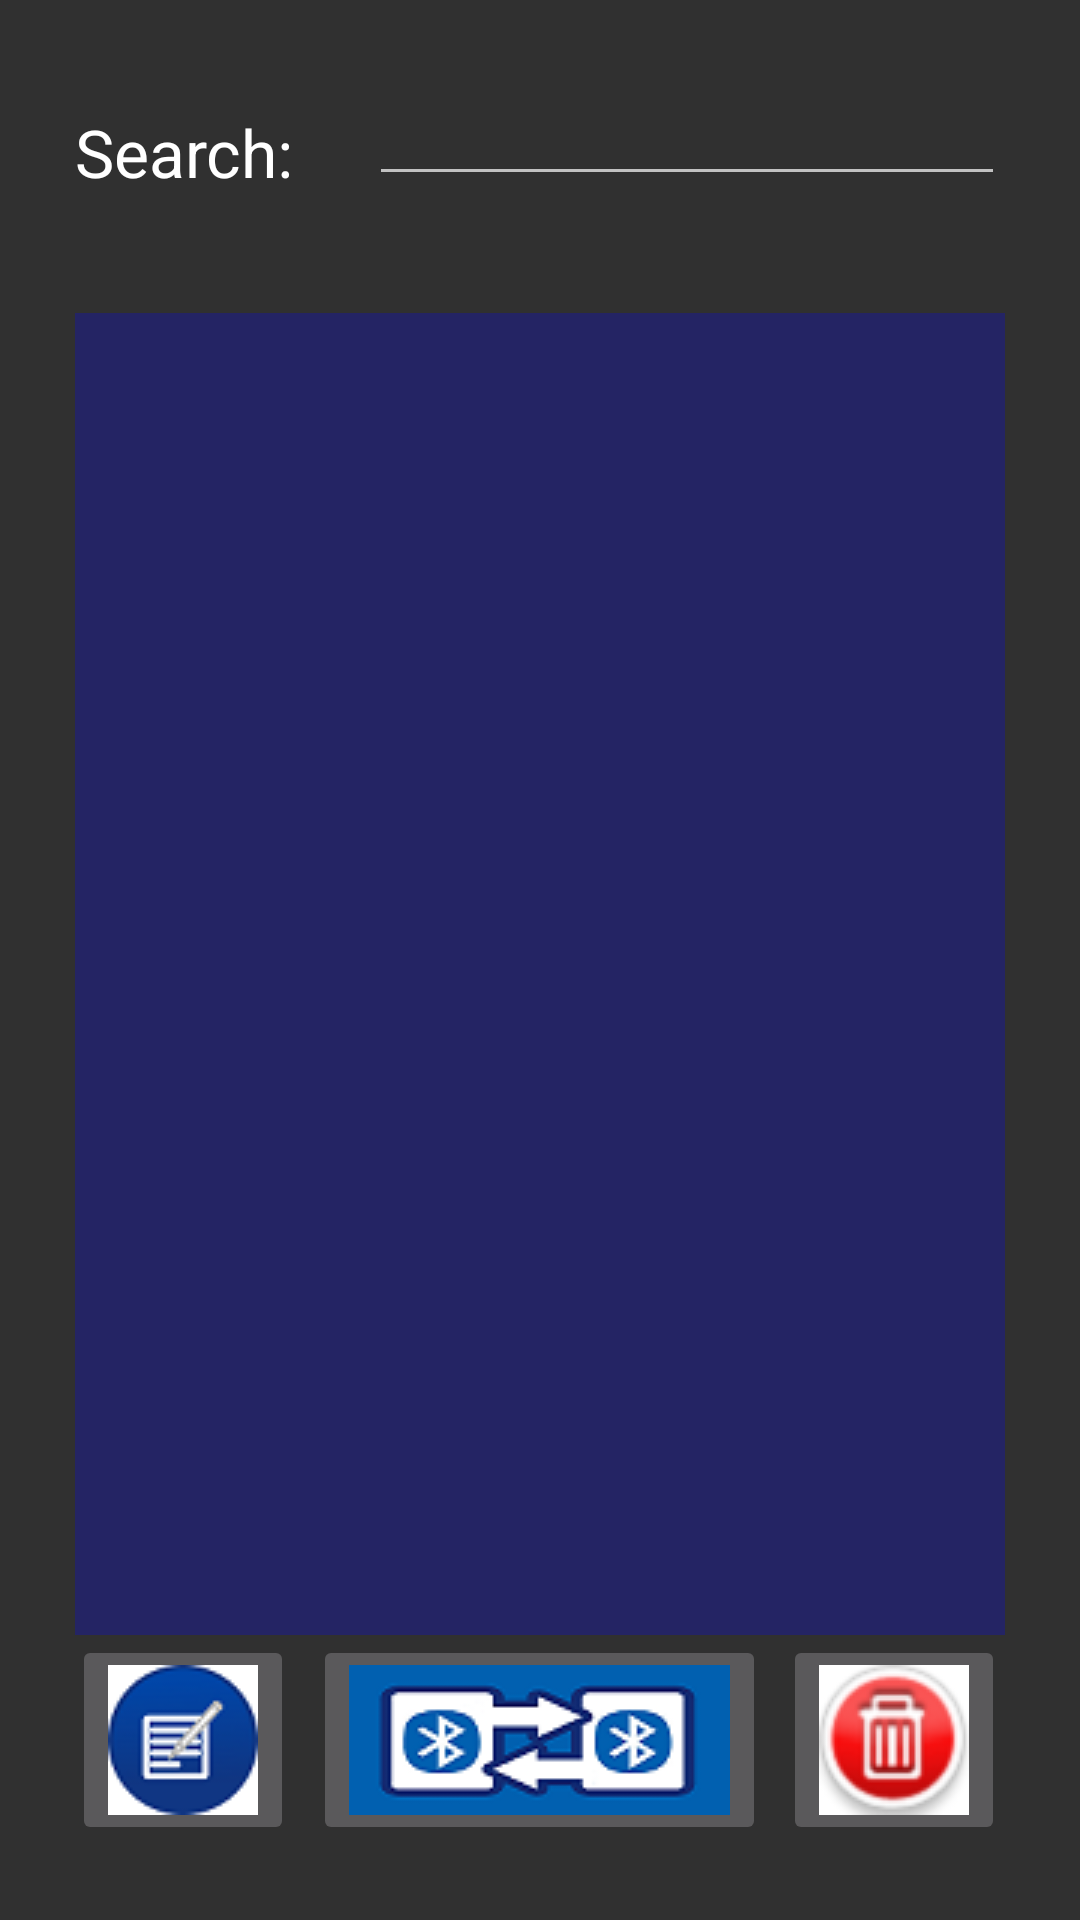

Icon click points for this 1080 x 1920 phone screenshot, format (x,y):
delete: (894,1740)
edit: (183,1740)
